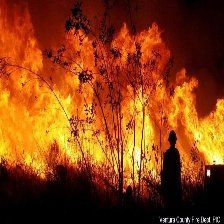fire: (1, 9, 224, 178)
